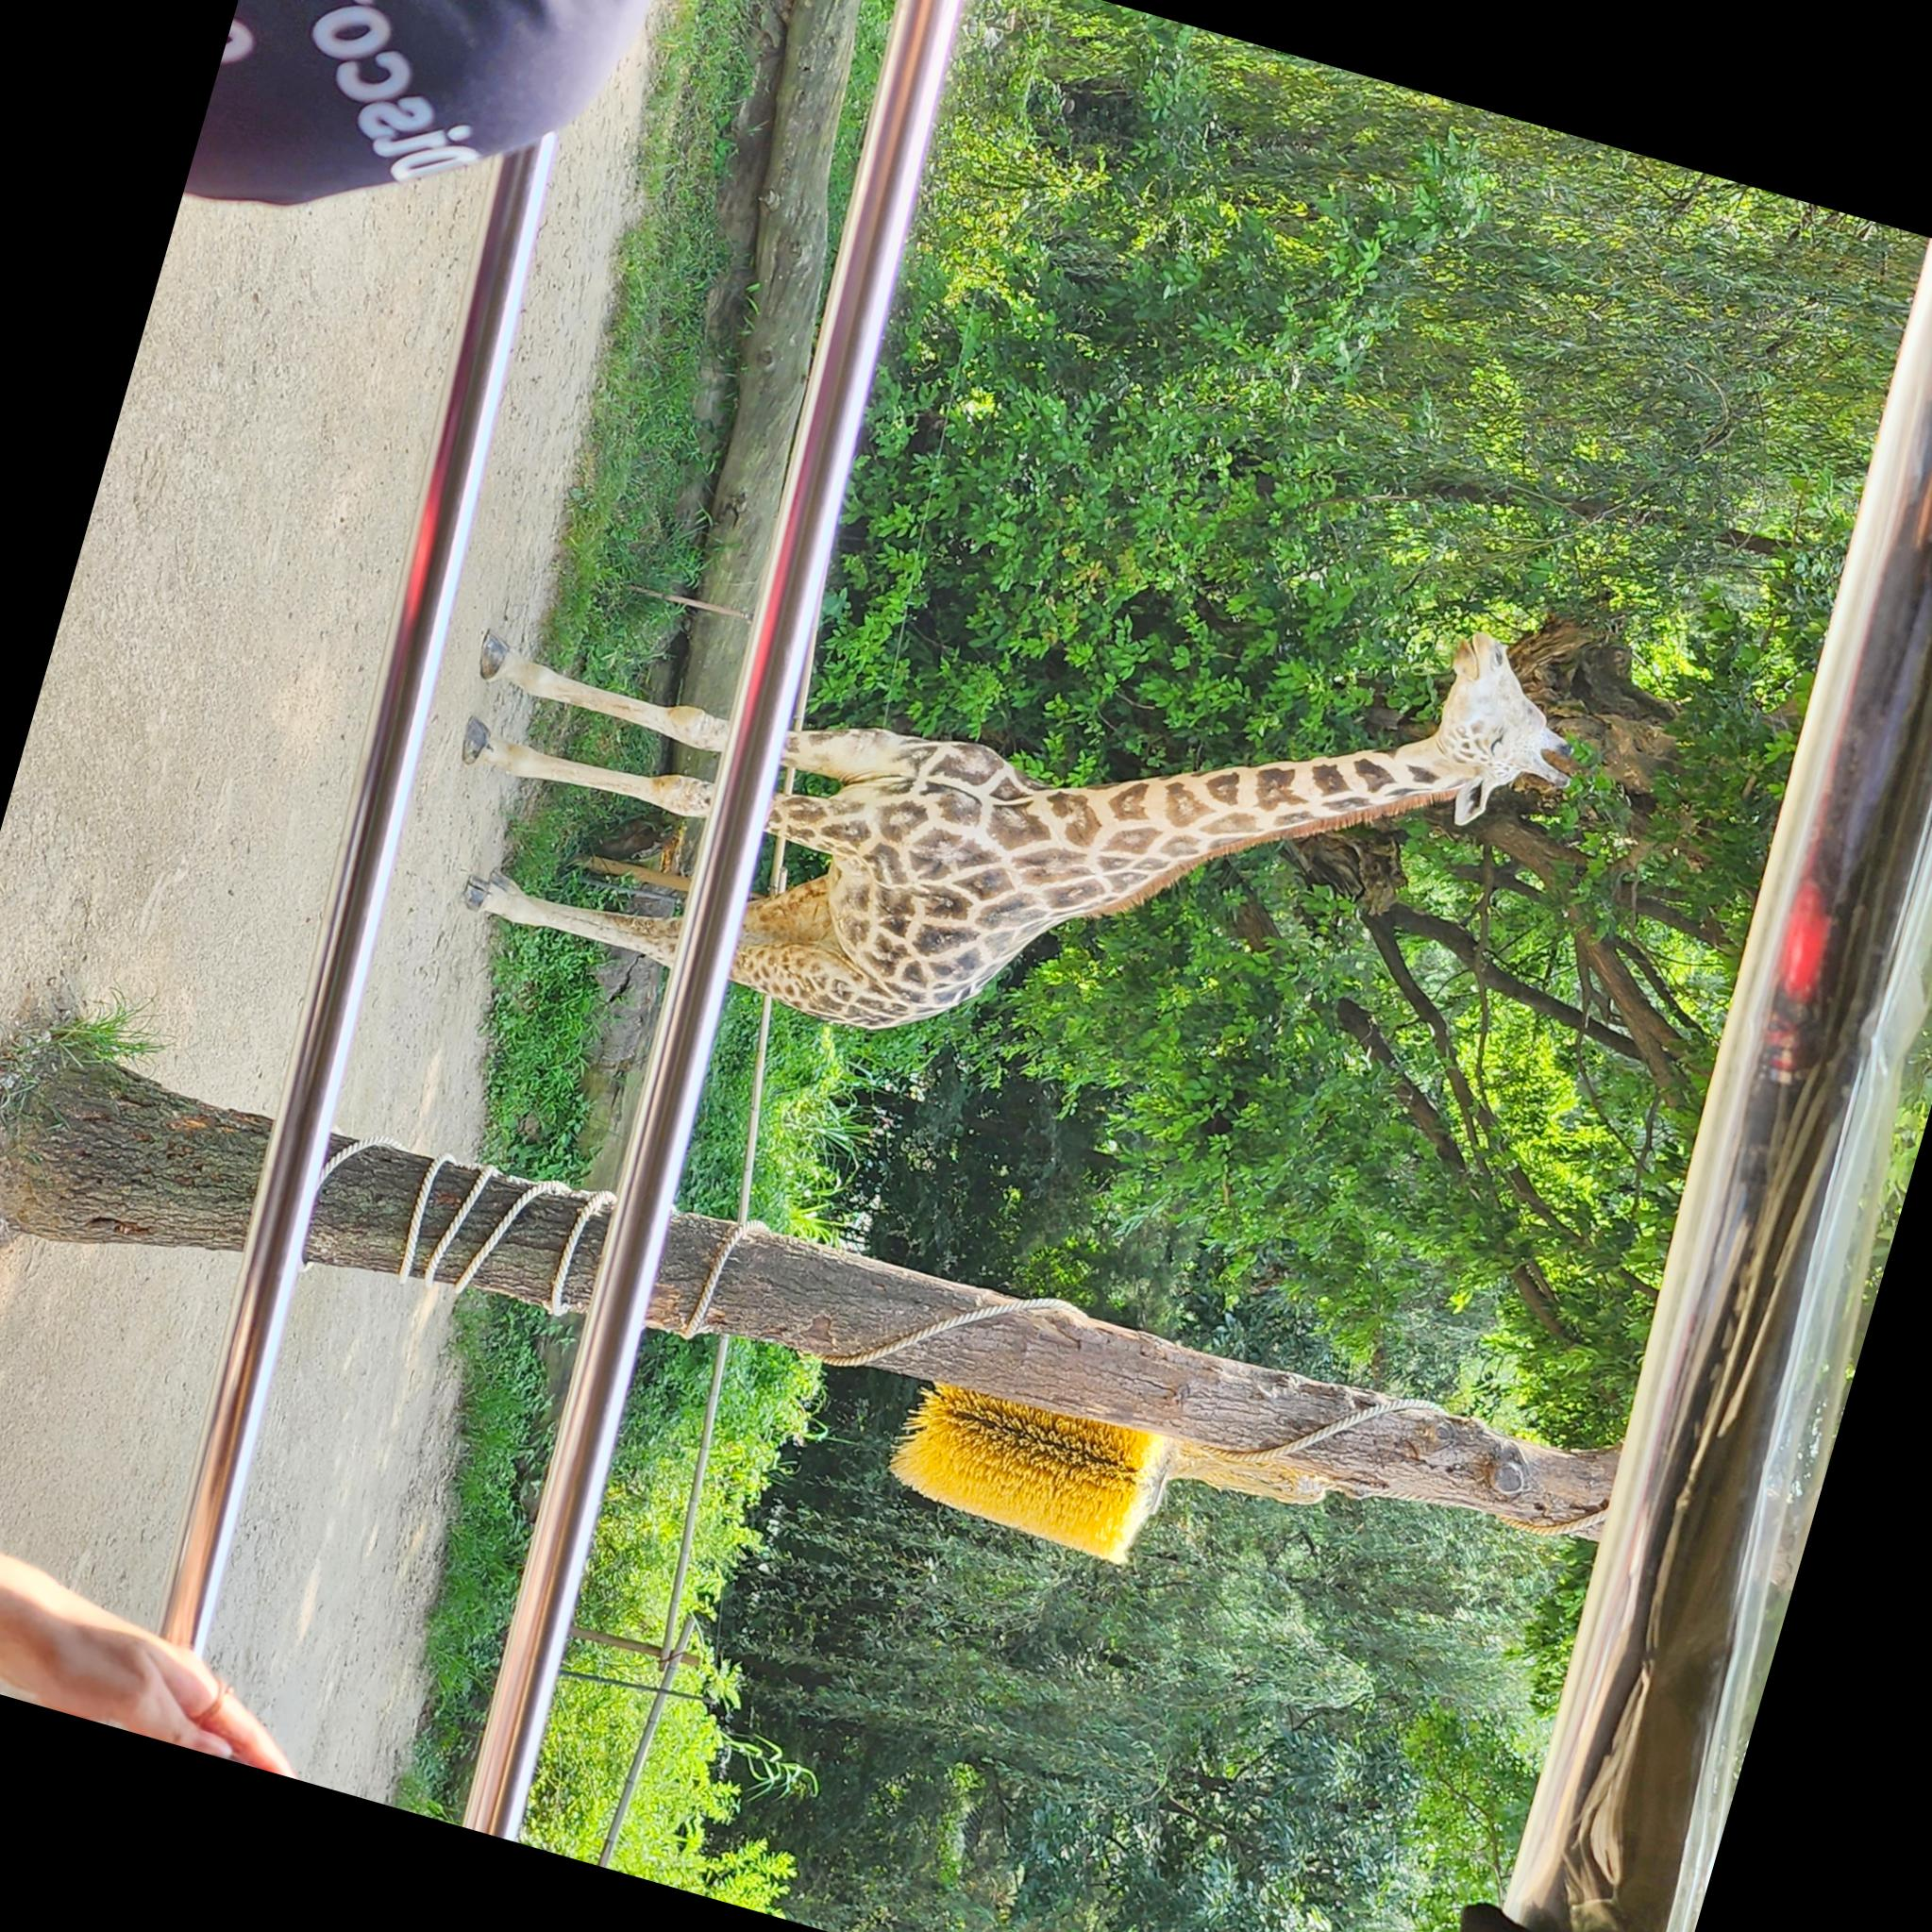giraffe: (366, 326, 1203, 1525)
